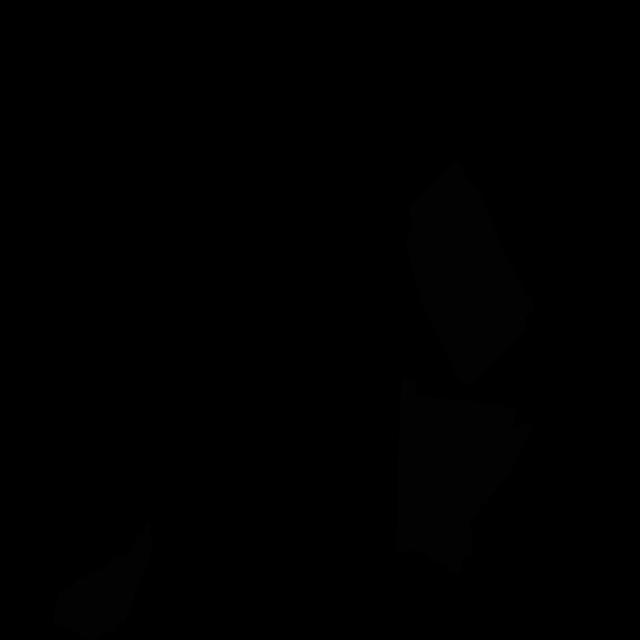cardboard: (406, 161, 536, 385), (396, 377, 532, 573), (52, 518, 153, 639)
